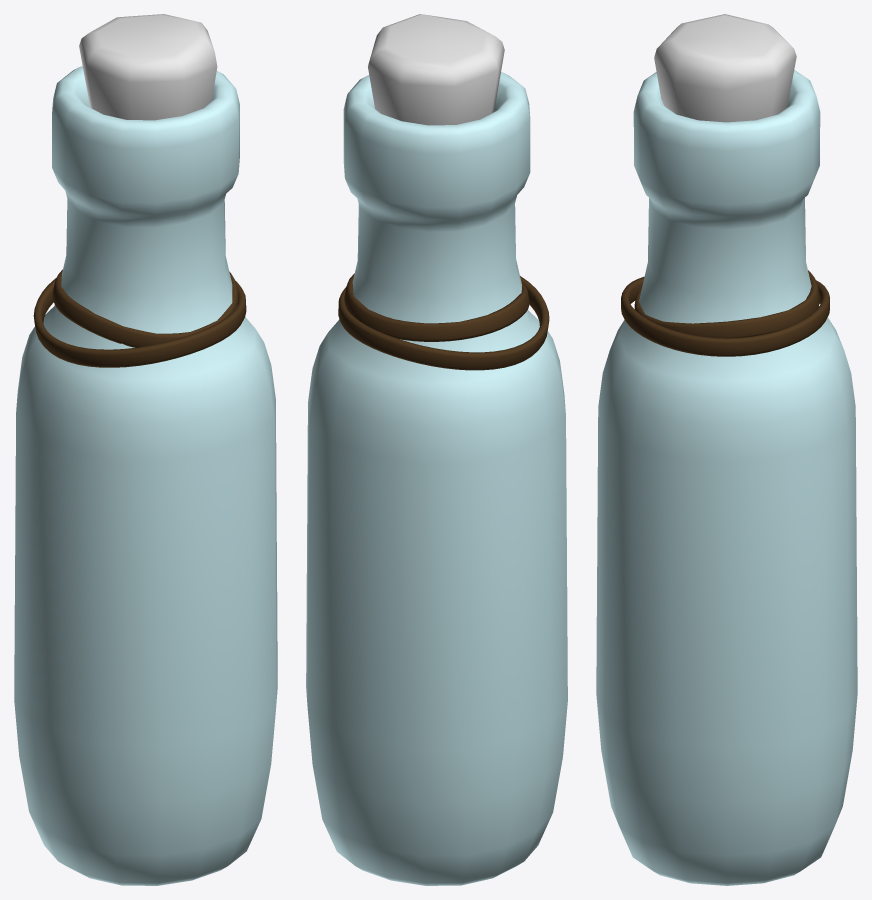
The model's file is m_BluePotion1.fbx.
3 views of the same model, side by side, from view 1: azimuth 30°, elevation 25°; view 2: azimuth 150°, elevation 25°; view 3: azimuth 270°, elevation 25° (orthographic).
Parts seen in each view (by area): view 1: m_BluePotion1; view 2: m_BluePotion1; view 3: m_BluePotion1.
Boxes of the visible parts, box(x1,y1,x2,y2) form: m_BluePotion1: box(14, 14, 277, 885); m_BluePotion1: box(306, 14, 567, 885); m_BluePotion1: box(596, 14, 857, 885).
Bounding box in the file's own units: 21.66 × 74.62 × 21.66.
